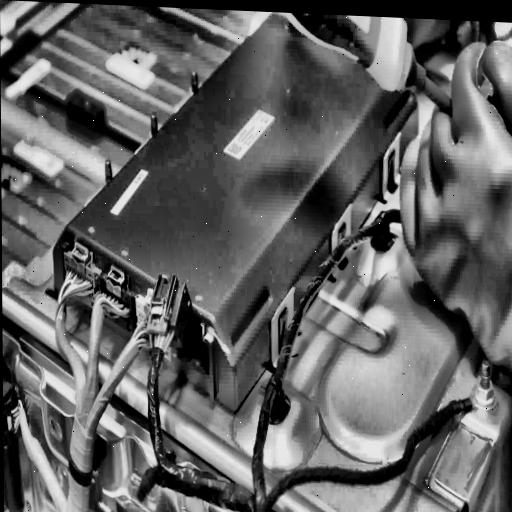bms_unit: (52, 12, 421, 413)
high_volt_cable: (14, 249, 164, 512)
low_volt_cable: (134, 203, 474, 512)
